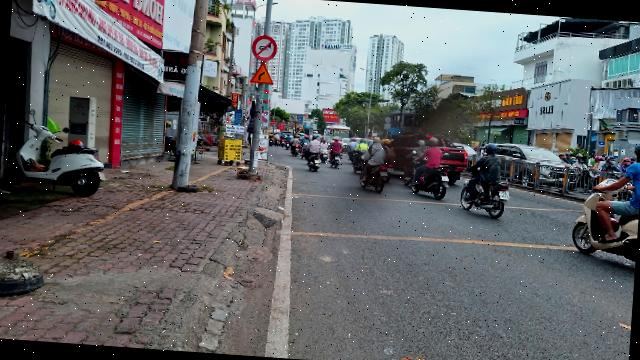cam-bop-coi: (251, 34, 278, 62)
cho-ngoat-nguy-hiem-ben-trai: (250, 60, 274, 84)
